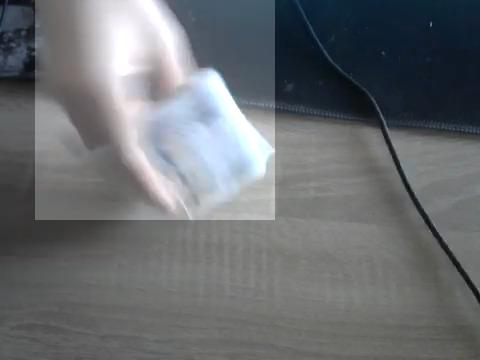20leva: (35, 0, 275, 220)
